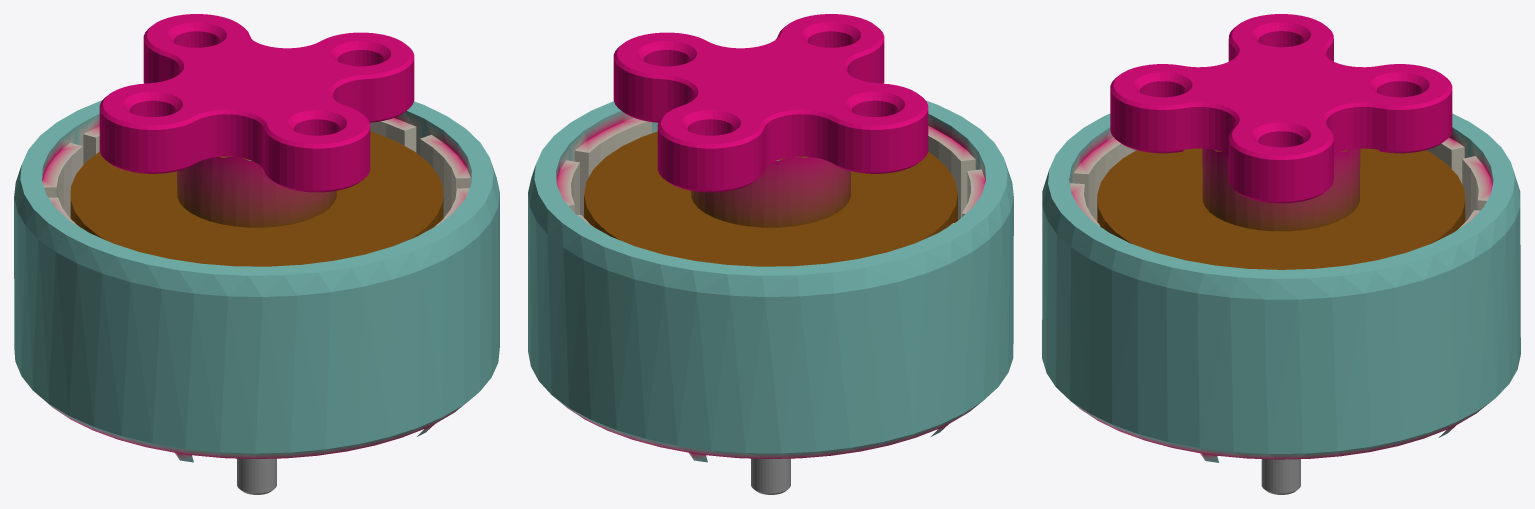
The model's file is motor-2.glb.
3 views of the same model, side by side, from view 1: azimuth 30°, elevation 25°; view 2: azimuth 150°, elevation 25°; view 3: azimuth 270°, elevation 25° (orthographic).
Visible parts, largest first — view 1: world; view 2: world; view 3: world.
Part boxes in pixels (bbox=[...]): world: bbox=[14, 14, 499, 494]; world: bbox=[528, 14, 1013, 494]; world: bbox=[1042, 14, 1520, 494].
Bounding box in the file's own units: 0.0182 × 0.0169 × 0.0182.
